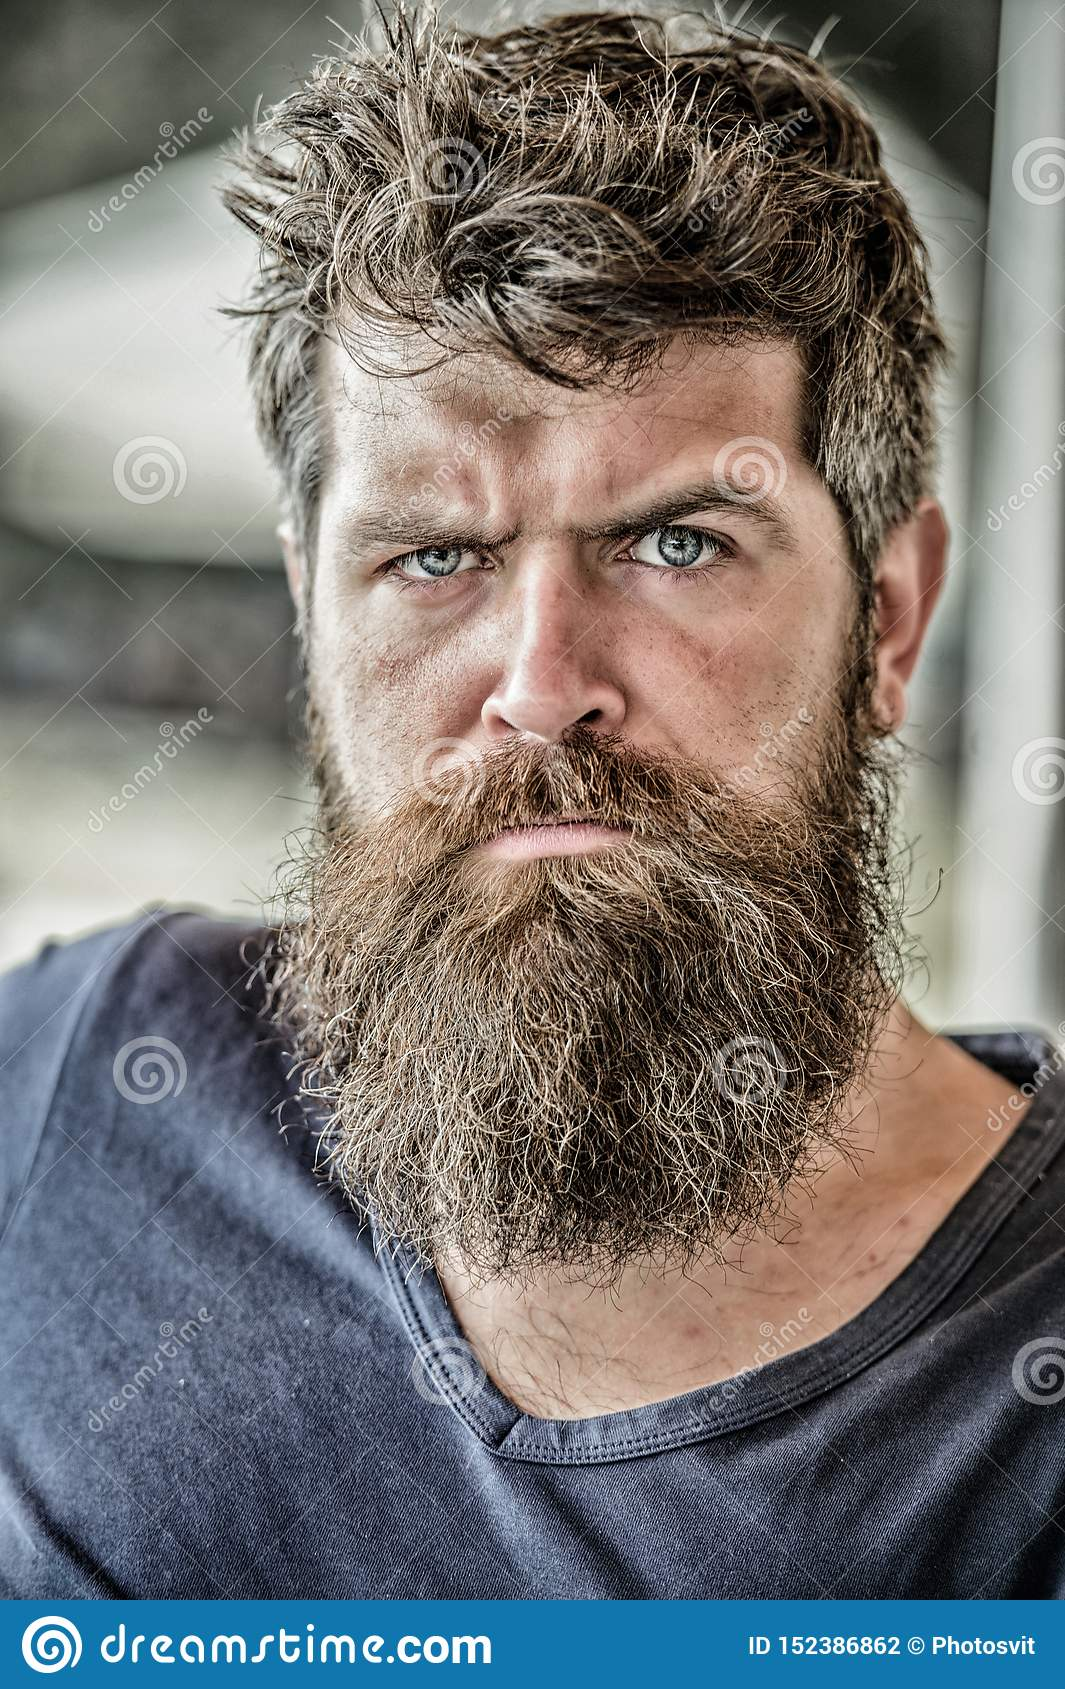NoMask: (327, 446, 811, 988)
